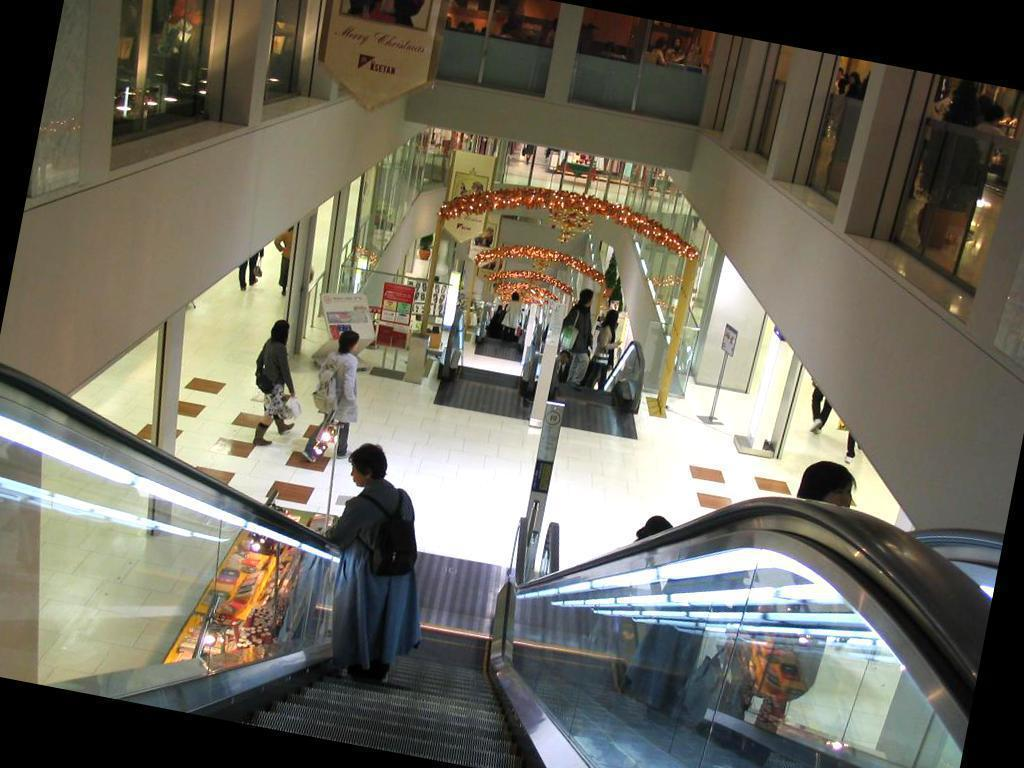Escaleras: (0, 385, 990, 768), (431, 305, 549, 416), (535, 326, 657, 428)
